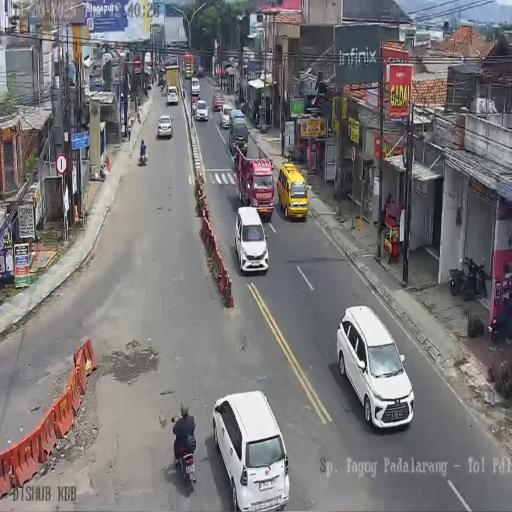car: (336, 304, 414, 426), (212, 392, 289, 510), (234, 205, 269, 274), (277, 161, 308, 221), (157, 114, 173, 138), (220, 103, 233, 129), (194, 99, 208, 122), (167, 84, 179, 106), (212, 94, 225, 112), (190, 77, 200, 96), (157, 70, 166, 86), (198, 66, 204, 78)
motorcycle: (175, 426, 197, 493), (466, 252, 488, 298), (449, 267, 465, 296), (139, 148, 147, 164), (145, 85, 149, 100)
truck: (228, 112, 249, 154), (184, 53, 194, 80)
